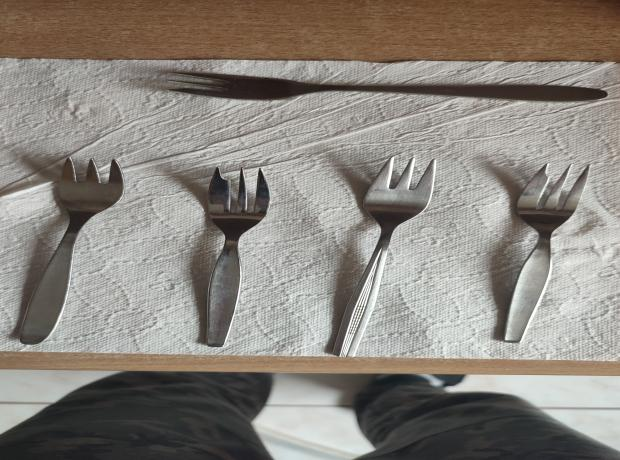metal: (326, 158, 441, 357), (5, 158, 126, 346), (501, 162, 596, 343), (165, 70, 609, 102), (204, 167, 274, 347)
